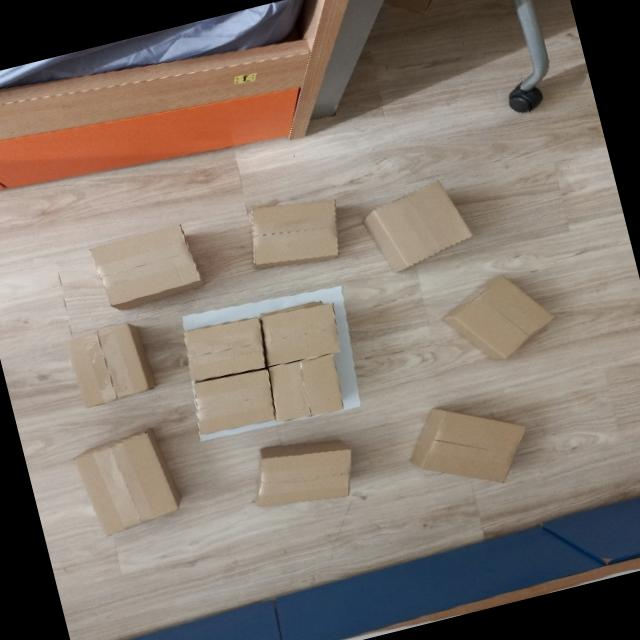box: (71, 429, 180, 538), (363, 179, 474, 274), (89, 224, 202, 311), (443, 276, 554, 361), (411, 406, 526, 485), (68, 321, 155, 409), (249, 200, 340, 270), (190, 365, 277, 436), (256, 444, 352, 508), (181, 316, 266, 387), (258, 301, 344, 370), (264, 353, 345, 423)
